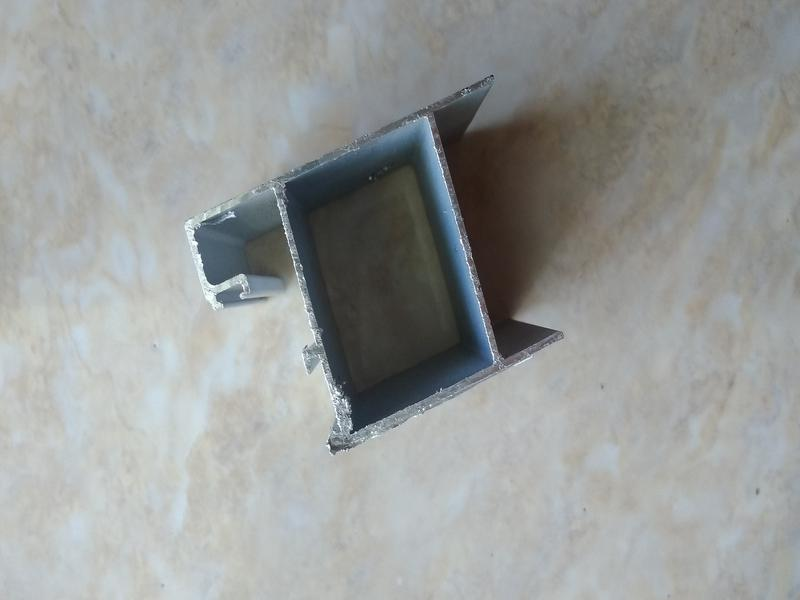Aluminium_2: (143, 68, 645, 459)
